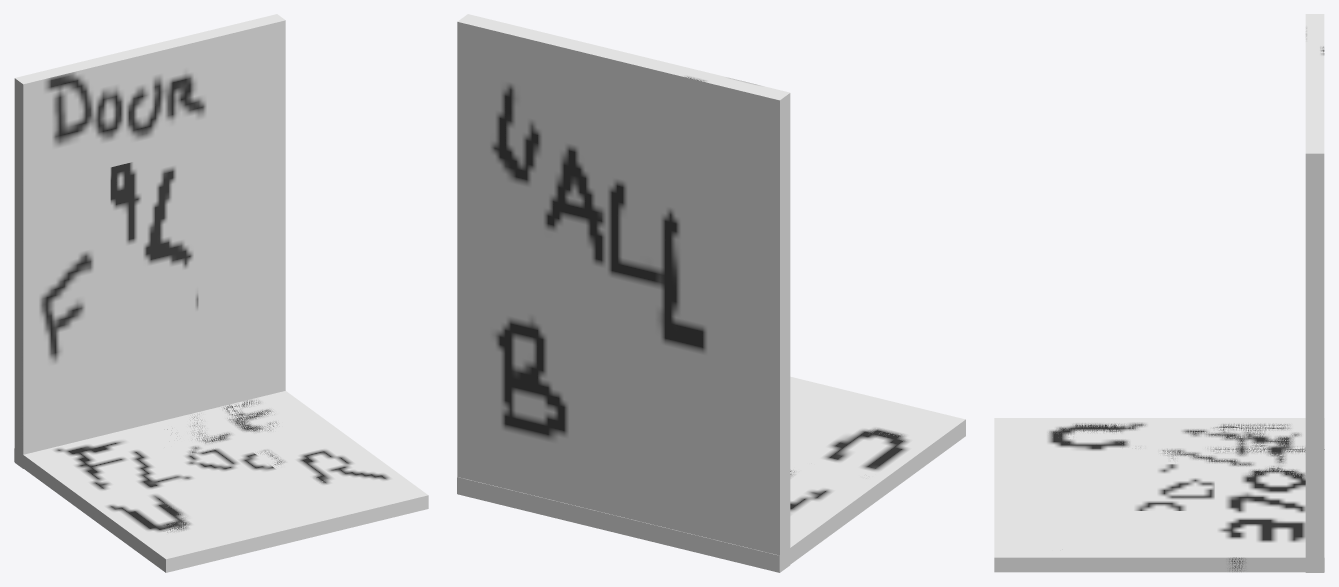
The model's file is Placeholders.glb.
The picture shows the model from 3 angles, left to right: view 1: azimuth 30°, elevation 25°; view 2: azimuth 150°, elevation 25°; view 3: azimuth 270°, elevation 25°; orthographic projection. The views are drawn at different scales.
Parts seen in each view (by area): view 1: Door, Floor, Wall, Hole, Window; view 2: Wall, Window, Hole, Floor, Door; view 3: Hole, Floor, Door, Wall, Window.
Boxes of the visible parts, x1,y1,x2,y2 form: Door: (14, 14, 285, 467); Floor: (14, 391, 428, 572); Wall: (14, 14, 284, 468); Hole: (14, 392, 428, 571); Window: (14, 14, 282, 463); Wall: (457, 14, 790, 572); Window: (457, 14, 790, 572); Hole: (457, 377, 965, 571); Floor: (457, 377, 965, 572); Door: (458, 14, 790, 522); Hole: (994, 418, 1324, 572); Floor: (994, 418, 1324, 572); Door: (1305, 14, 1324, 572); Wall: (1305, 14, 1324, 572); Window: (1305, 14, 1324, 572).
Size of the model in its own units: 1 by 1.4 by 1.
5 materials, 5 textured.
